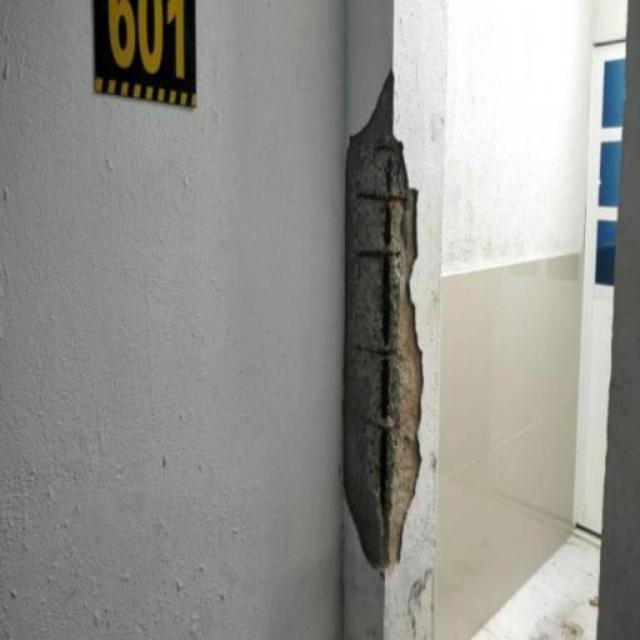D0w0: (342, 70, 423, 557)
